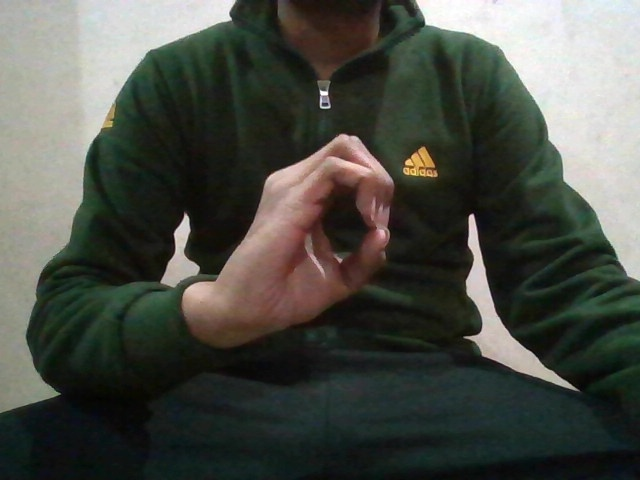O: (246, 129, 400, 325)
